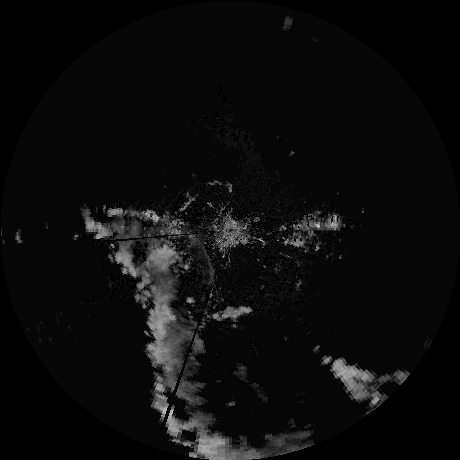frontgust: (195, 239, 216, 289)
